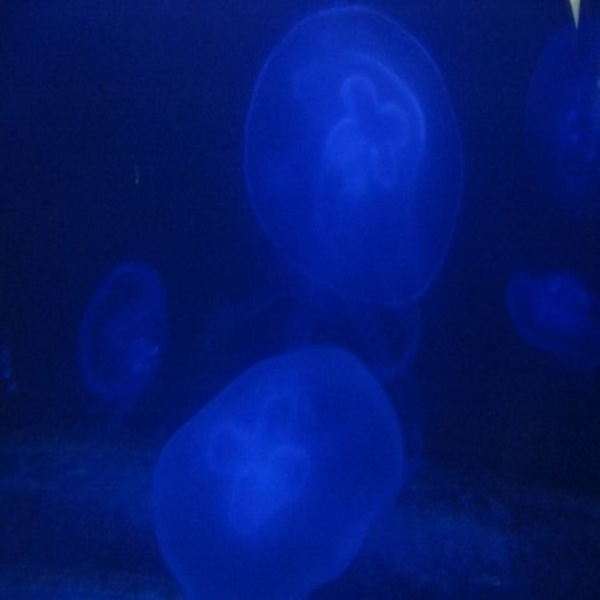Jellyfish: (240, 0, 471, 312), (151, 344, 404, 598), (520, 16, 598, 196), (85, 254, 169, 419), (505, 269, 598, 361)
